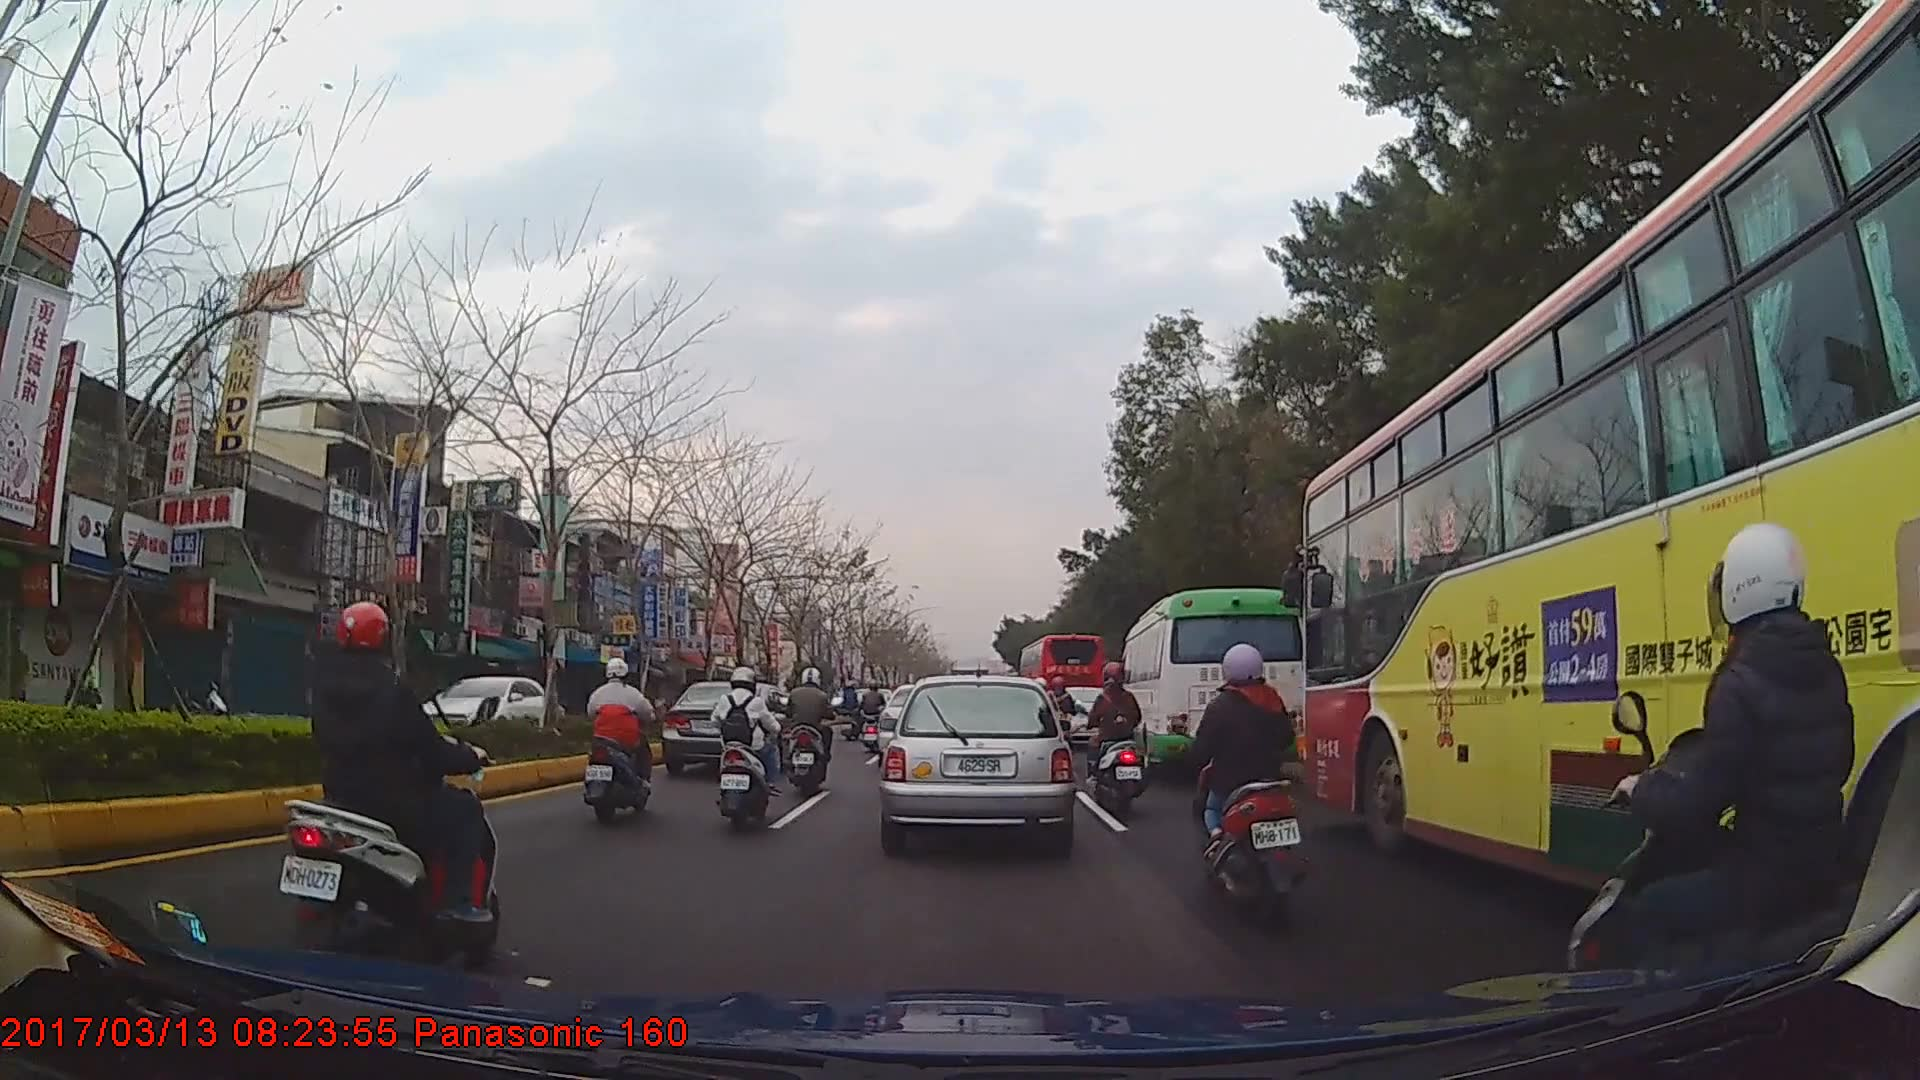rider: (1568, 523, 1912, 1041), (285, 598, 500, 969), (1185, 642, 1311, 930), (587, 656, 658, 822), (714, 665, 784, 830), (1087, 664, 1148, 804), (782, 667, 842, 798), (859, 681, 889, 754), (841, 681, 863, 723)
vehicle: (1300, 0, 1920, 1005), (1115, 585, 1308, 774), (882, 671, 1073, 849), (404, 668, 564, 760), (660, 679, 799, 780), (1017, 631, 1106, 742)
